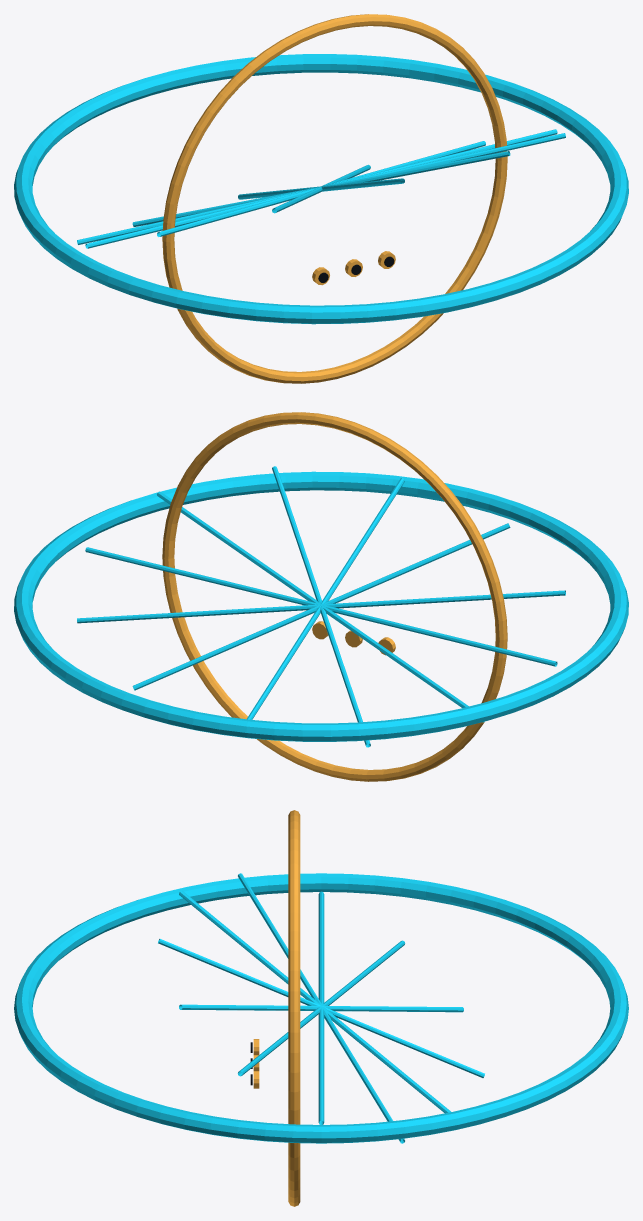
The model's file is 04_L90_DeepSpaceDepartureHologram.fbx.
3 renders of one model, top to bottom at view 1: azimuth 30°, elevation 25°; view 2: azimuth 150°, elevation 25°; view 3: azimuth 270°, elevation 25°, orthographic.
Parts seen in each view (by area): view 1: L90_DeepSpaceDepartureHologram_Part_0000, L90_DeepSpaceDepartureHologram_Part_0001; view 2: L90_DeepSpaceDepartureHologram_Part_0000, L90_DeepSpaceDepartureHologram_Part_0001; view 3: L90_DeepSpaceDepartureHologram_Part_0000, L90_DeepSpaceDepartureHologram_Part_0001.
Boxes of the visible parts, bbox=[...] form: L90_DeepSpaceDepartureHologram_Part_0000: bbox=[14, 54, 628, 324]; L90_DeepSpaceDepartureHologram_Part_0001: bbox=[162, 14, 507, 383]; L90_DeepSpaceDepartureHologram_Part_0000: bbox=[14, 466, 628, 747]; L90_DeepSpaceDepartureHologram_Part_0001: bbox=[162, 412, 507, 781]; L90_DeepSpaceDepartureHologram_Part_0000: bbox=[14, 873, 628, 1143]; L90_DeepSpaceDepartureHologram_Part_0001: bbox=[288, 810, 300, 1206].
Bounding box in the file's own units: 454 × 293 × 454.
